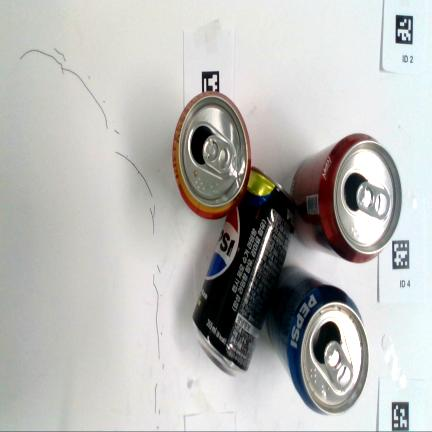can_coke_decaf: (173, 91, 250, 218)
can_coke_zero: (291, 133, 401, 262)
can_pepsi: (267, 266, 368, 414)
can_pepsi_zero: (193, 168, 294, 374)
